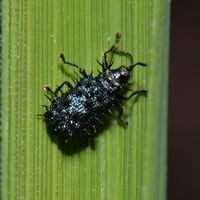insect: (37, 32, 147, 143)
